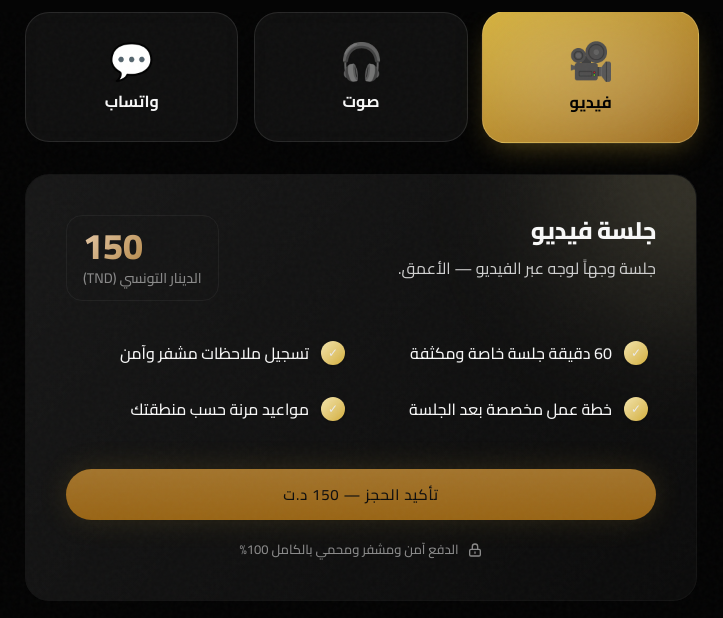
Scenario: BookingEngine Component (Zustand) › switches to whatsapp pricing on click
Click the button "💬 واتساب" at (132,77), box [25, 12, 238, 142]
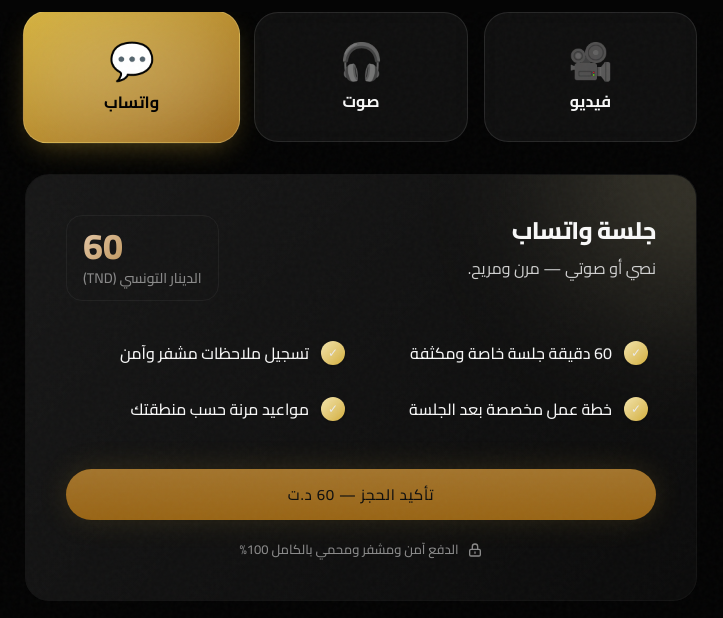
Expected: the text "60" is shown, [83, 228, 202, 264]
Expected: the text "نصي أو صوتي — مرن ومريح." is shown, [468, 255, 656, 281]
